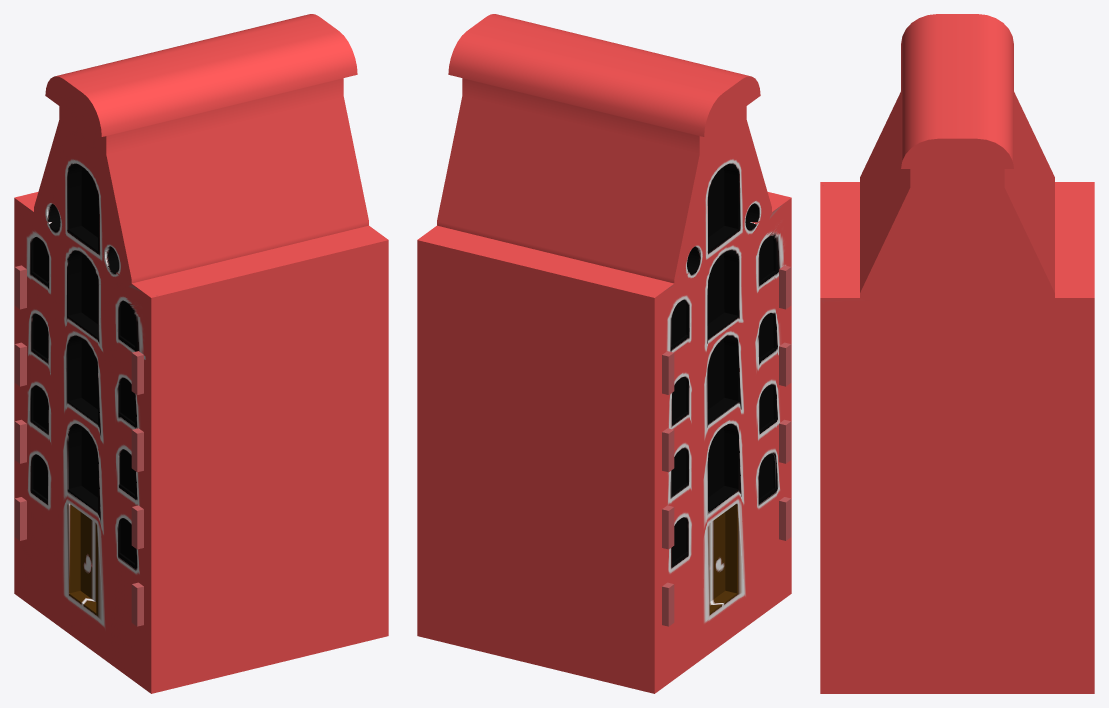
The model's file is oud huis met uv.glb.
3 views of the same model, side by side, from view 1: azimuth 30°, elevation 25°; view 2: azimuth 150°, elevation 25°; view 3: azimuth 270°, elevation 25° (orthographic).
Visible parts, largest first — view 1: Cube; view 2: Cube; view 3: Cube.
Part boxes in pixels (x1,y1,x2,y2): Cube: (14,14,388,693); Cube: (417,14,791,693); Cube: (820,14,1094,693).
Bounding box in the file's own units: 13.87 × 29.01 × 12.88.
1 material, 1 textured.
